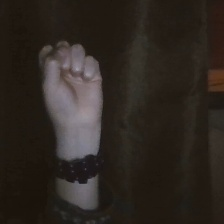S: (33, 36, 120, 135)
